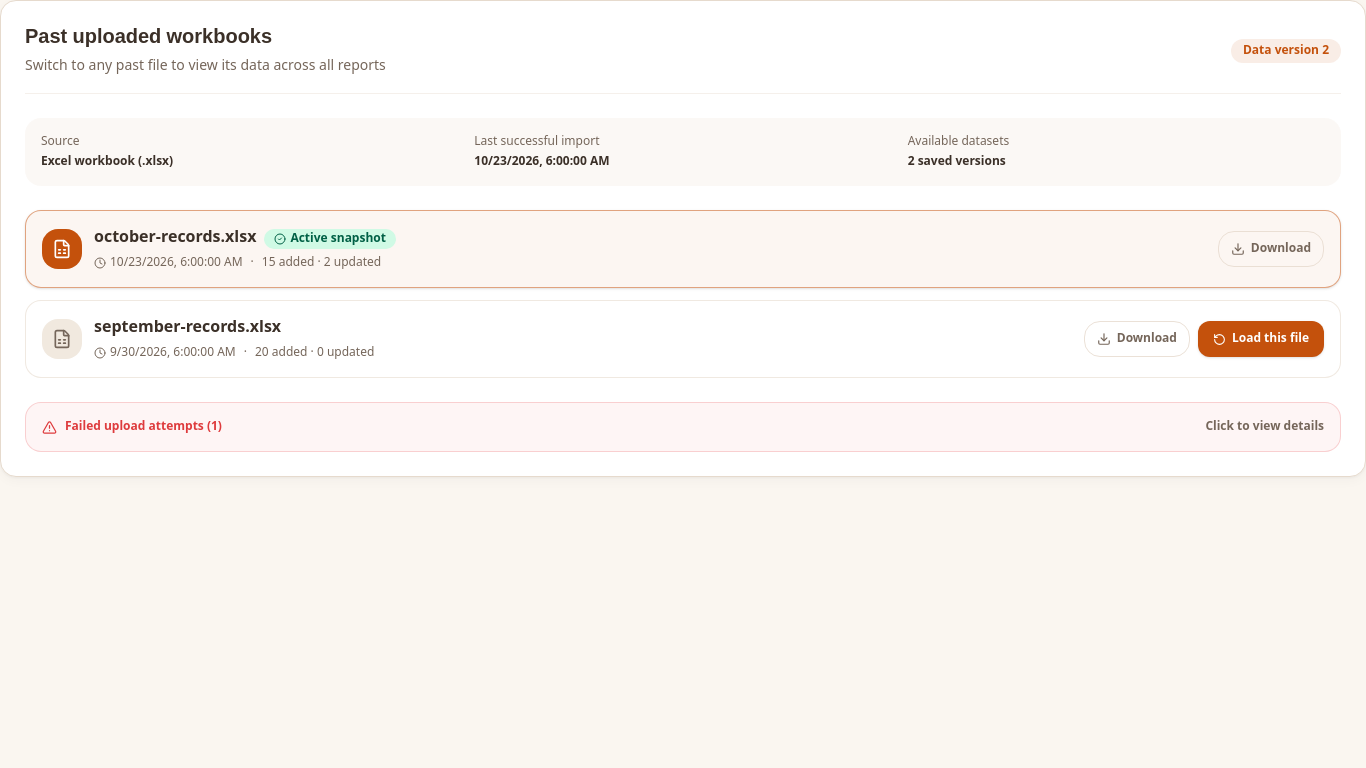
Test: SyncStatus History & Snapshot Switcher › labels saved failures as historical in en while retaining their issues
Click the heading "Failed upload attempts (1) Click to view details" at (50, 427), box [42,419,1324,435]
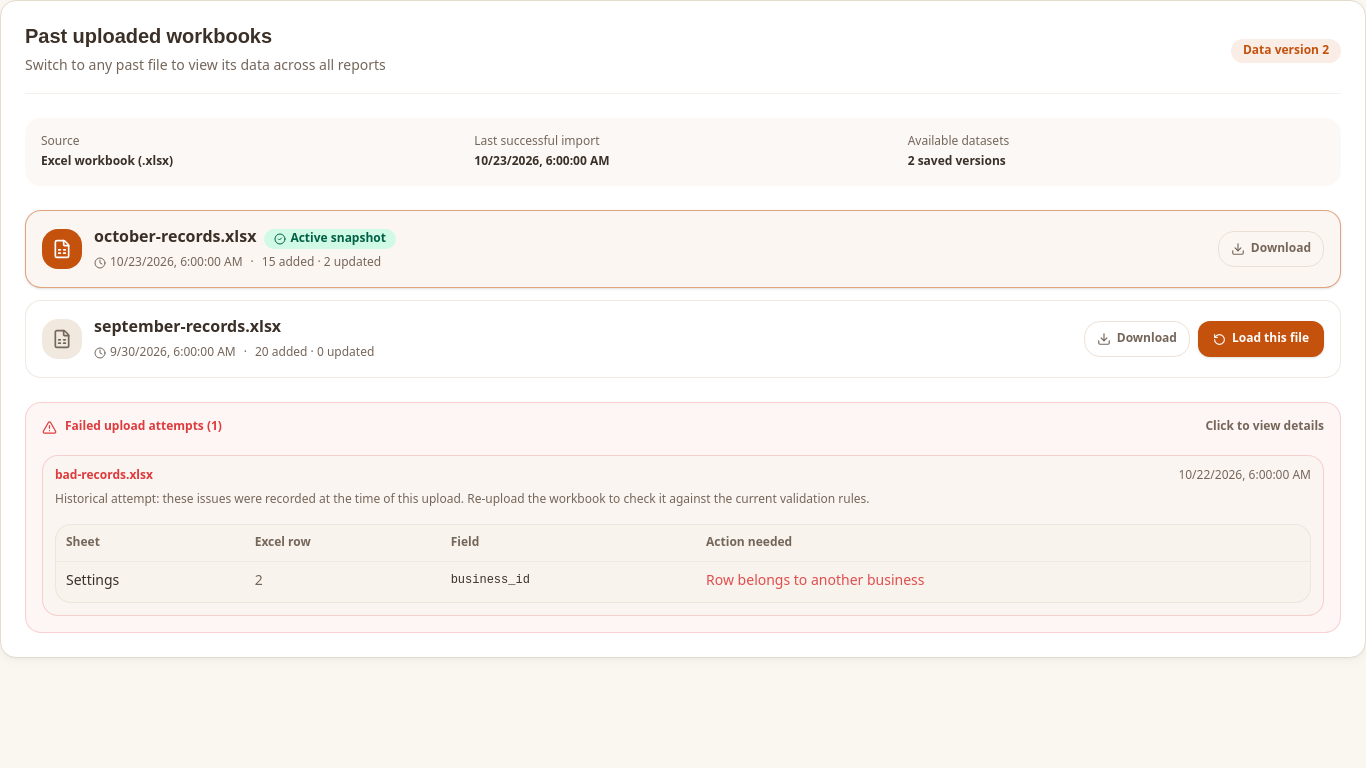
Expected: the text "Historical attempt: these issues were recorded at the time of this upload. Re-upload the workbook to check it against th" is shown, [55,487,870,513]
Expected: the text "Row belongs to another business" is shown, [696,562,1310,602]
